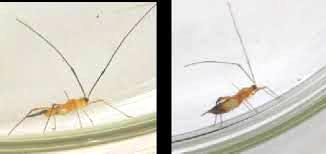Helopeltis-insect: (208, 84, 259, 116), (39, 96, 91, 119)
